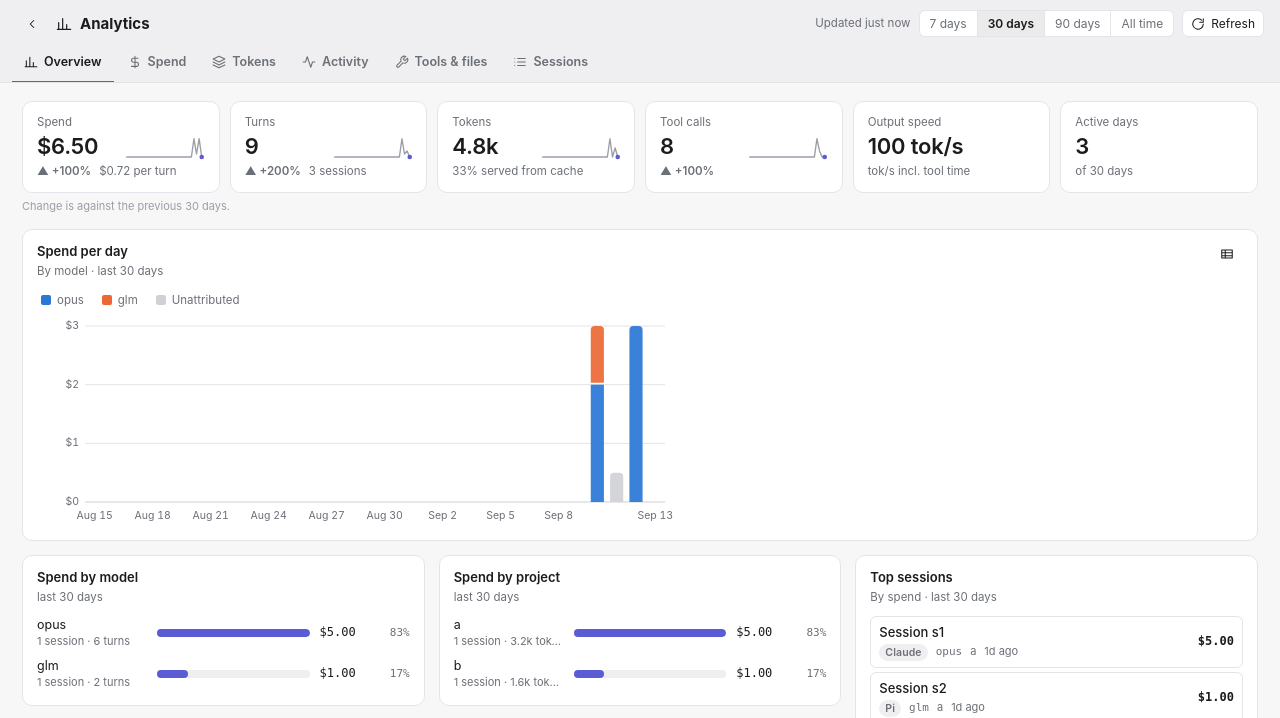
Test: analytics dashboard › shows each model's per-tool error rates on the tools tab
The image size is (1280, 718).
expect the text "$6.50" is shown: met, box [37,134,98,160]
Click the tab "Tools & files".
click(441, 64)  # box [382,45,500,82]
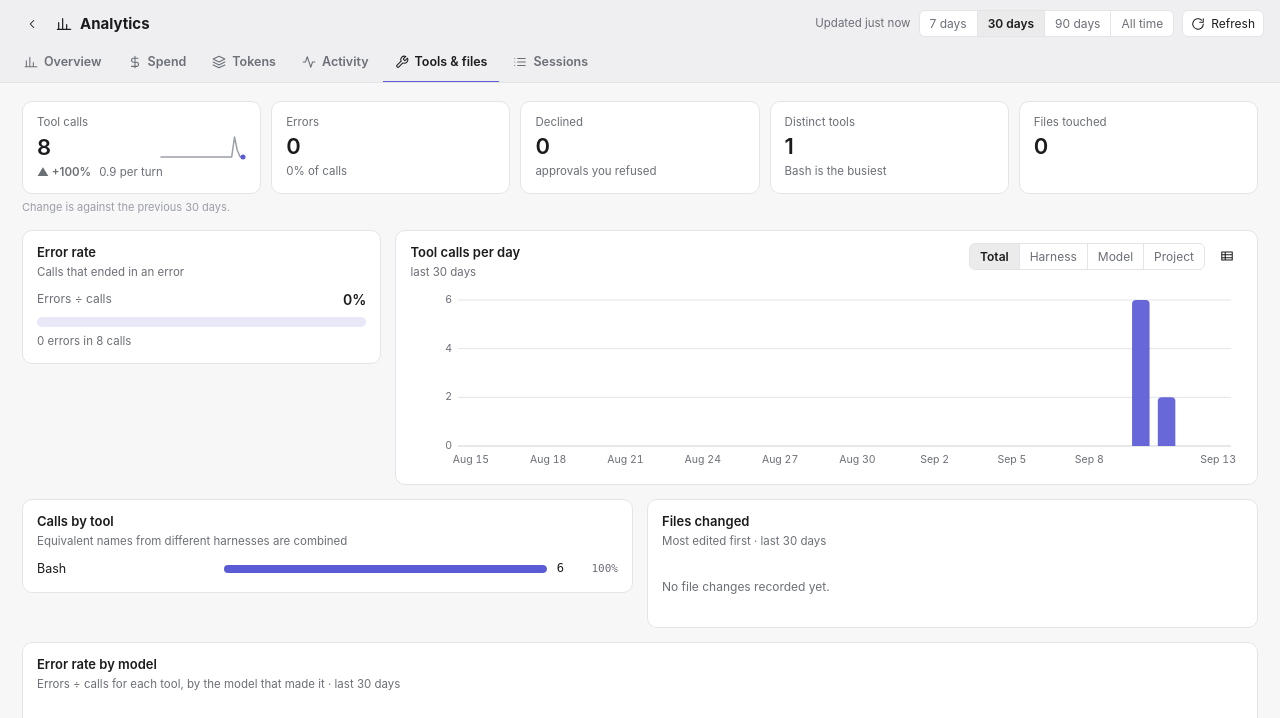
Click the radio button labelled "All time".
click(1142, 24)  # box [1110,11,1173,36]
(page scrolled)
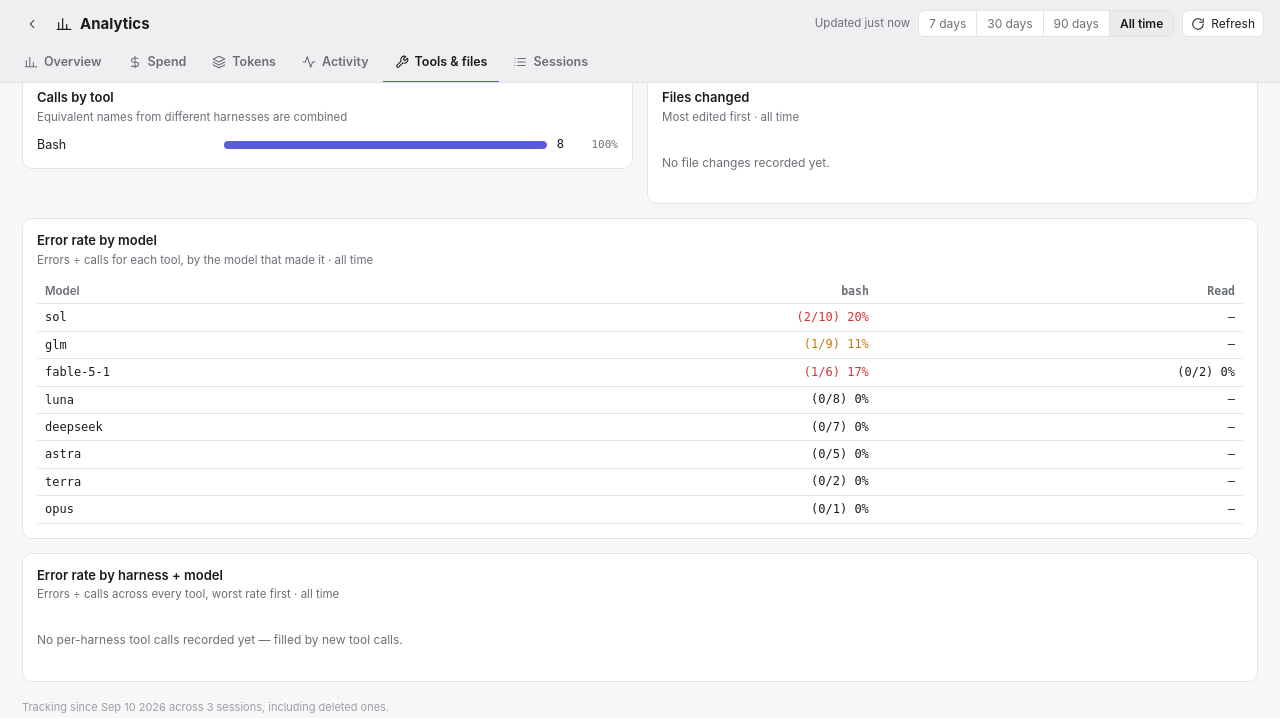
expect the text "Error rate by model" is shown: met, box [37,232,157,248]
expect the table with class "atable" is shown: met, box [37,279,1243,524]
expect the text "No per-harness tool calls recorded yet" is shown: met, box [37,632,403,647]
